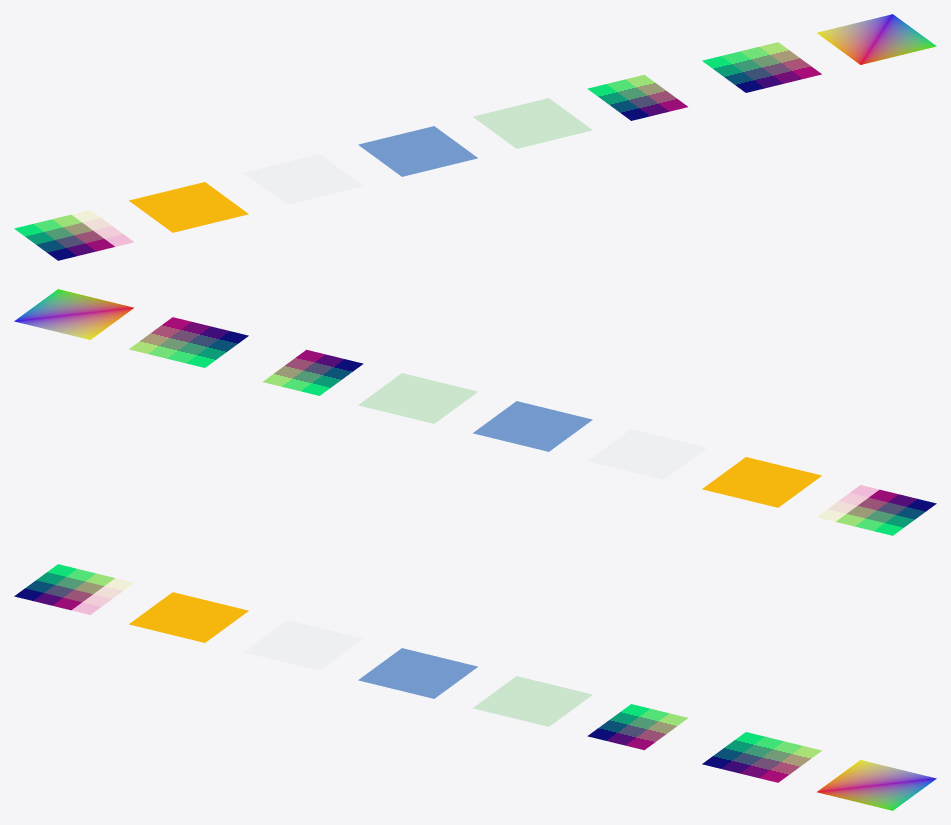
File: materials.glb
3 views of the same model, one above another, from view 1: azimuth 30°, elevation 25°; view 2: azimuth 150°, elevation 25°; view 3: azimuth 330°, elevation 25° (orthographic).
Visible parts, largest first — view 1: AttributePlane, CulledPlane, GlowPlane, TintedPlane, PaintedPlane, FadedPlane, GlassPlane, ClippedPlane; view 2: AttributePlane, CulledPlane, GlowPlane, TintedPlane, PaintedPlane, FadedPlane, GlassPlane, ClippedPlane; view 3: AttributePlane, CulledPlane, GlowPlane, TintedPlane, PaintedPlane, FadedPlane, GlassPlane, ClippedPlane.
Part boxes in pixels (box(x1,y1,x2,y2)): AttributePlane: box(817, 14, 936, 64); CulledPlane: box(358, 126, 477, 176); GlowPlane: box(129, 182, 248, 232); TintedPlane: box(702, 42, 821, 92); PaintedPlane: box(14, 210, 132, 260); FadedPlane: box(473, 98, 592, 148); GlassPlane: box(244, 154, 362, 204); ClippedPlane: box(587, 74, 687, 120); AttributePlane: box(14, 289, 133, 339); CulledPlane: box(473, 401, 592, 451); GlowPlane: box(702, 457, 821, 507); TintedPlane: box(129, 317, 248, 367); PaintedPlane: box(818, 485, 936, 535); FadedPlane: box(358, 373, 477, 423); GlassPlane: box(588, 429, 706, 479); ClippedPlane: box(263, 349, 363, 395); AttributePlane: box(817, 760, 936, 810); CulledPlane: box(358, 648, 477, 698); GlowPlane: box(129, 592, 248, 642); TintedPlane: box(702, 732, 821, 782); PaintedPlane: box(14, 564, 132, 614); FadedPlane: box(473, 676, 592, 726); GlassPlane: box(244, 620, 362, 670); ClippedPlane: box(587, 704, 687, 750).
Size of the model in its own units: 23 by 0 by 2.
Materials: 8 (3 with a texture image).
